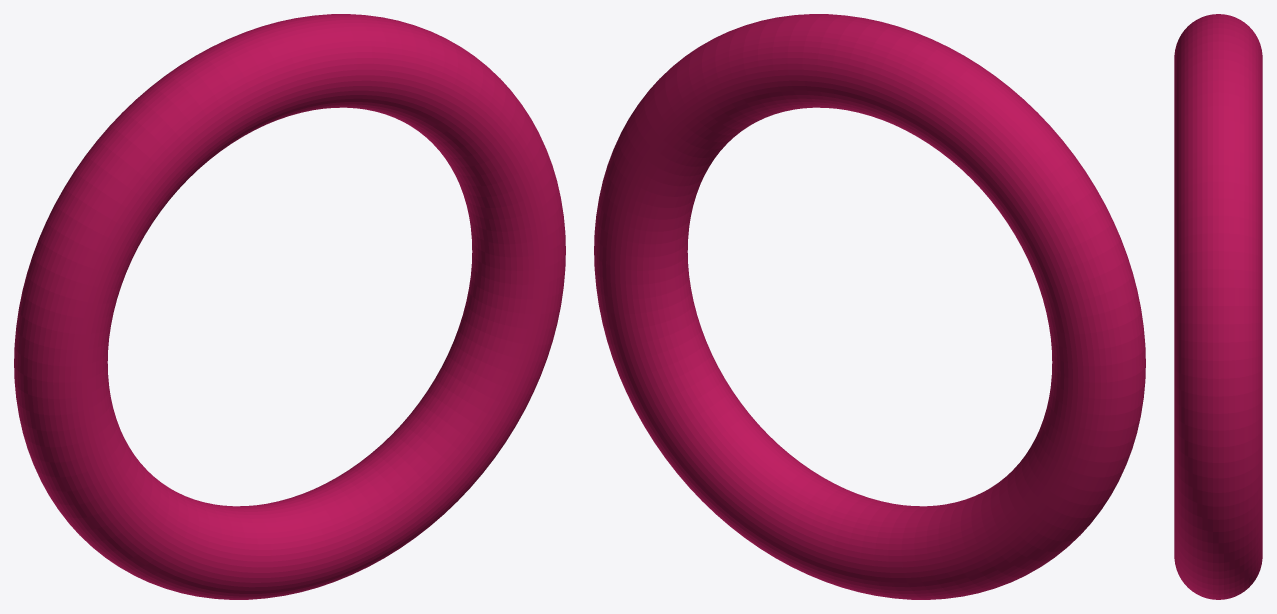
3 renders of one model, left to right at view 1: azimuth 30°, elevation 25°; view 2: azimuth 150°, elevation 25°; view 3: azimuth 270°, elevation 25°, orthographic. The views are drawn at different scales.
Parts seen in each view (by area): view 1: world; view 2: world; view 3: world.
Boxes of the visible parts, box(x1,y1,x2,y2) form: world: box(14, 14, 565, 599); world: box(594, 14, 1145, 599); world: box(1174, 14, 1262, 599).
Size of the model in its own units: 34.53 by 34.53 by 5.19.
